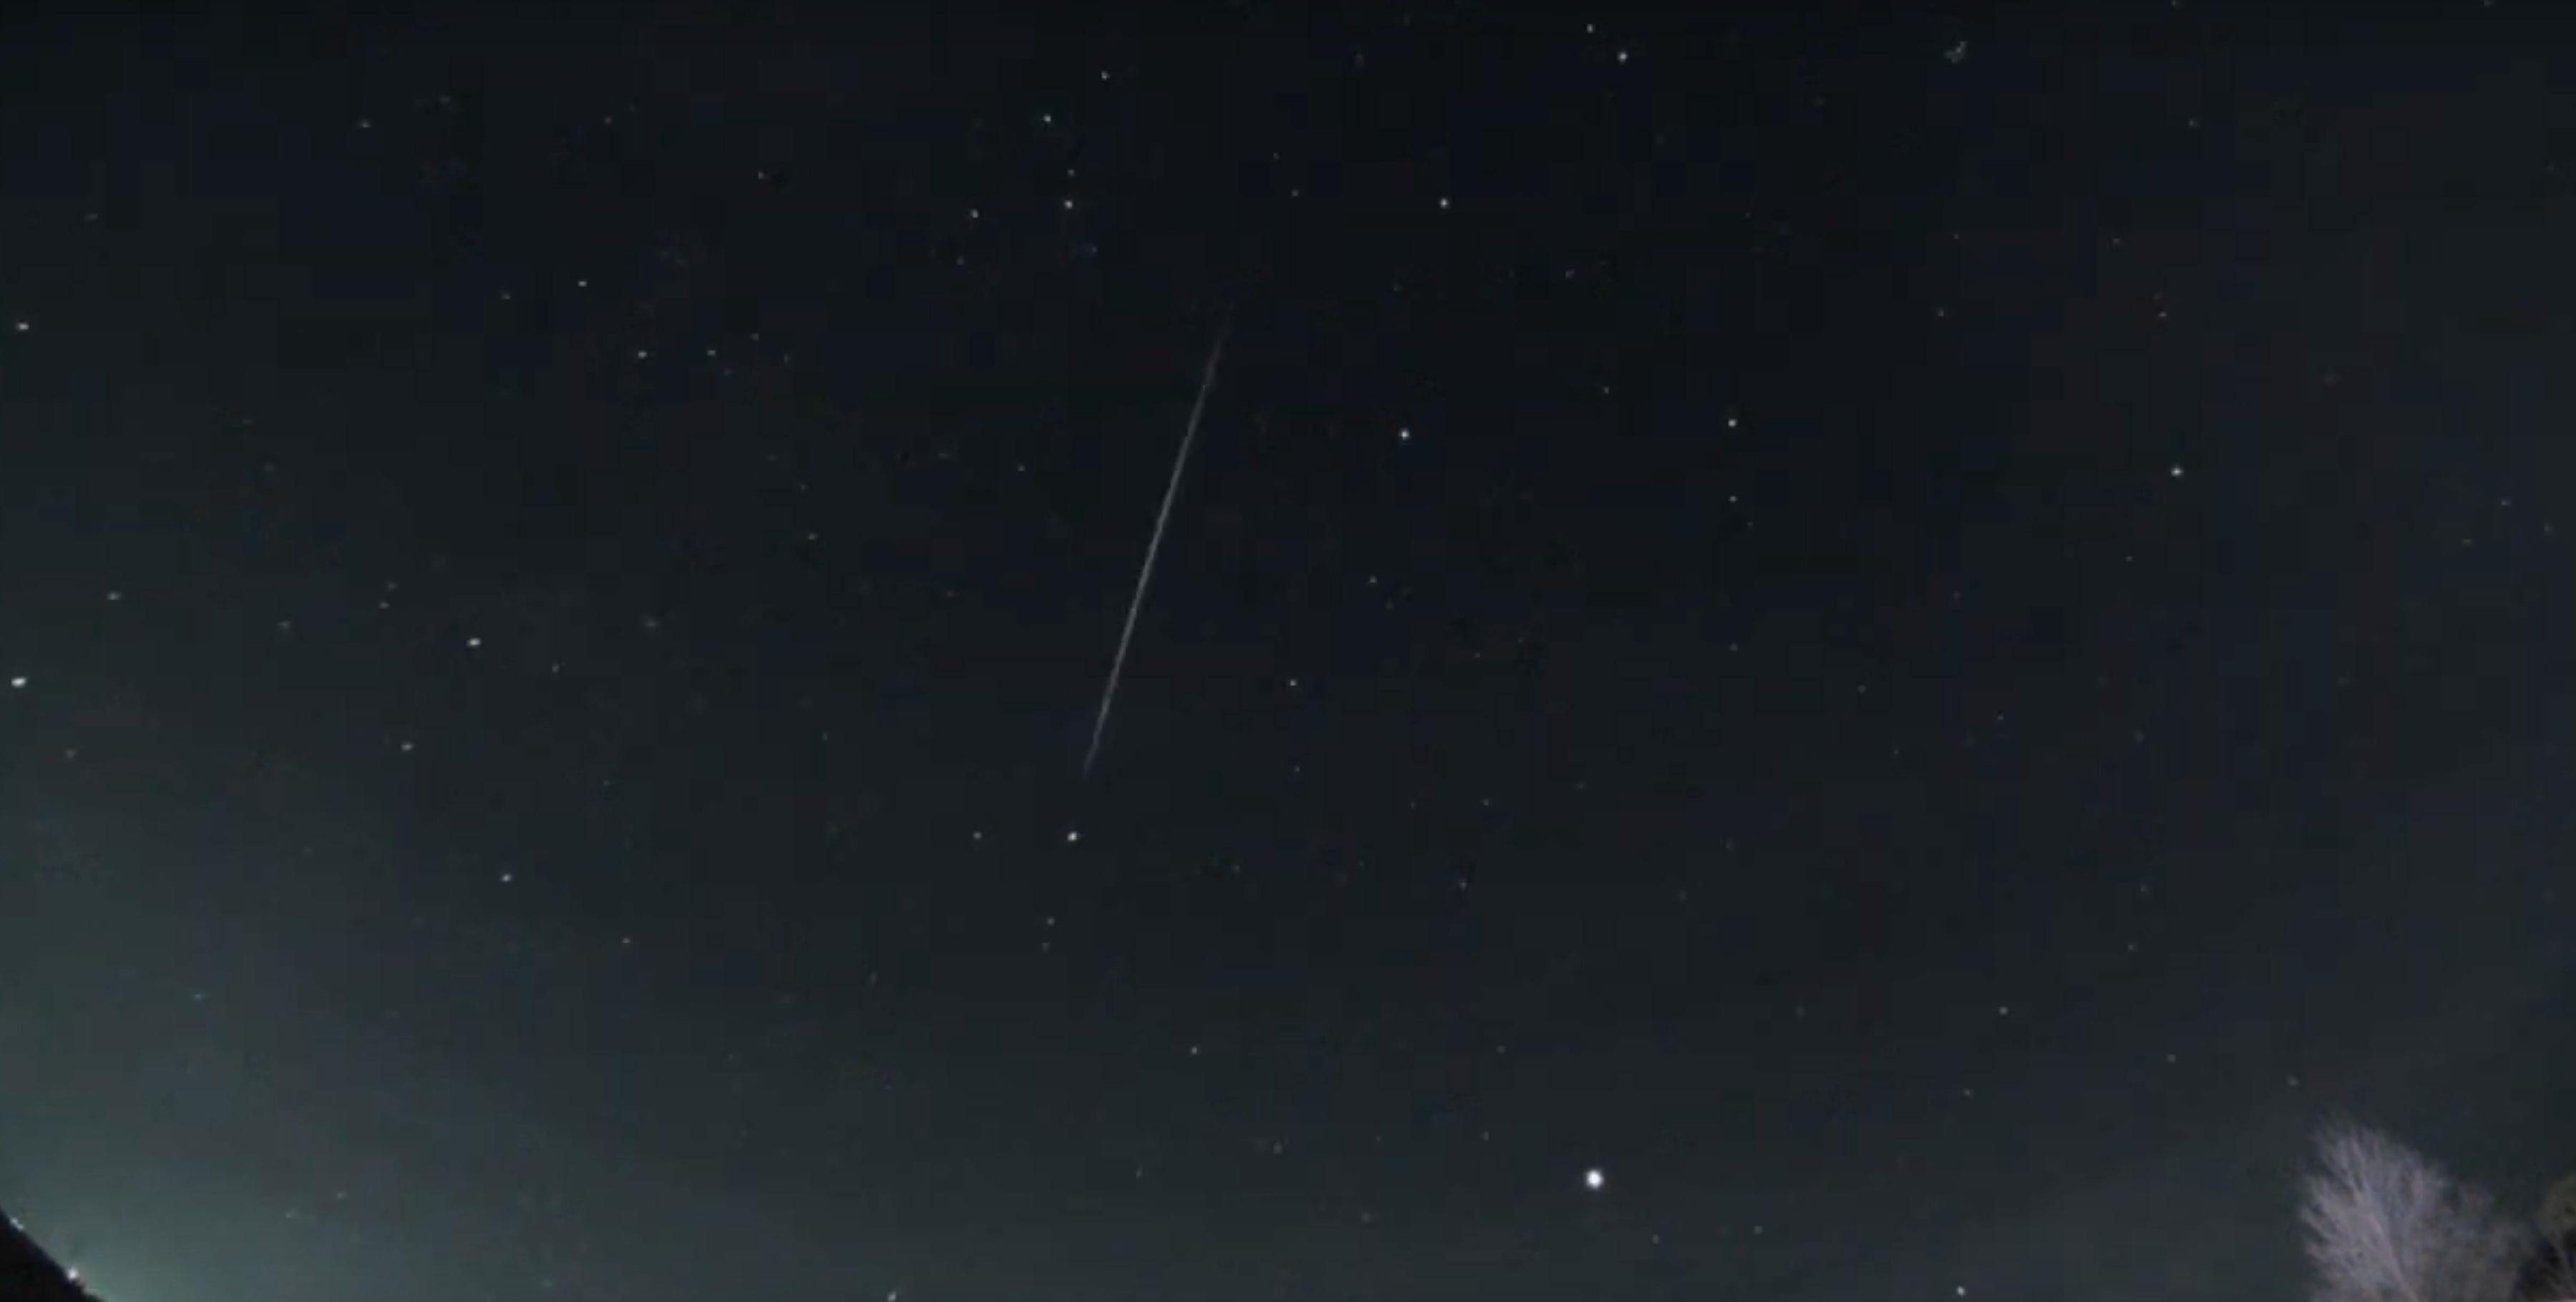meteorite: (1066, 272, 1272, 781)
